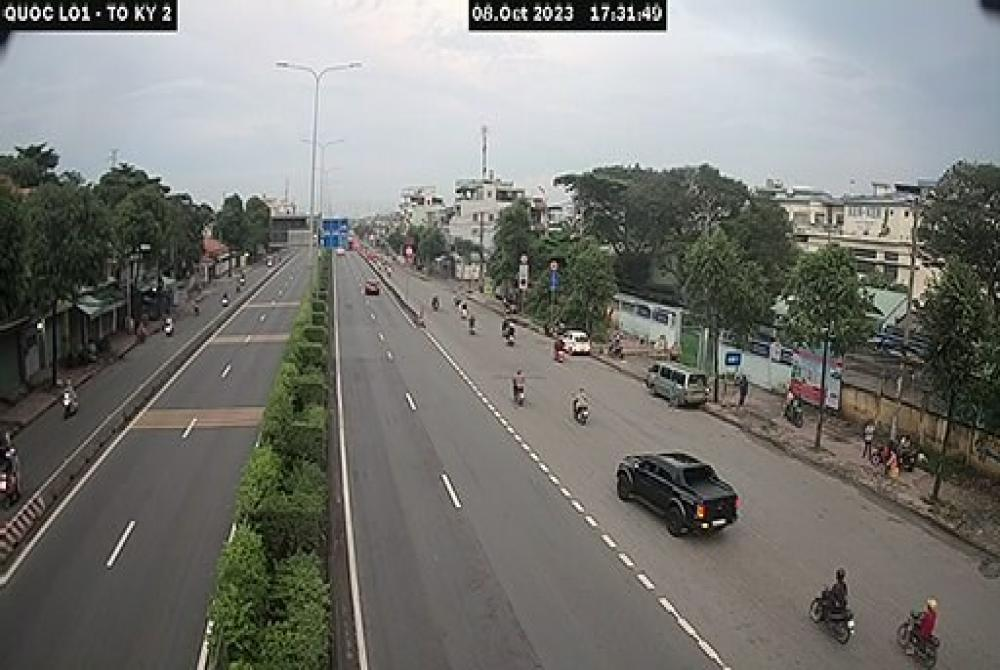car: (614, 445, 748, 540), (642, 358, 713, 412)
